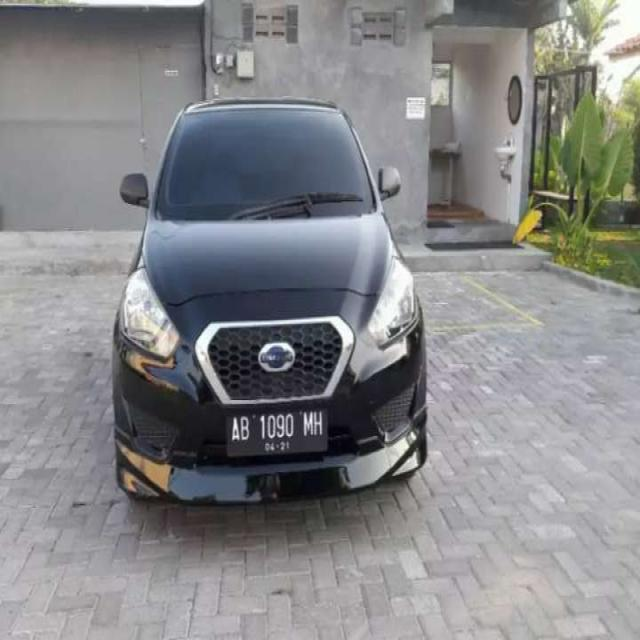plate: (226, 411, 328, 453)
